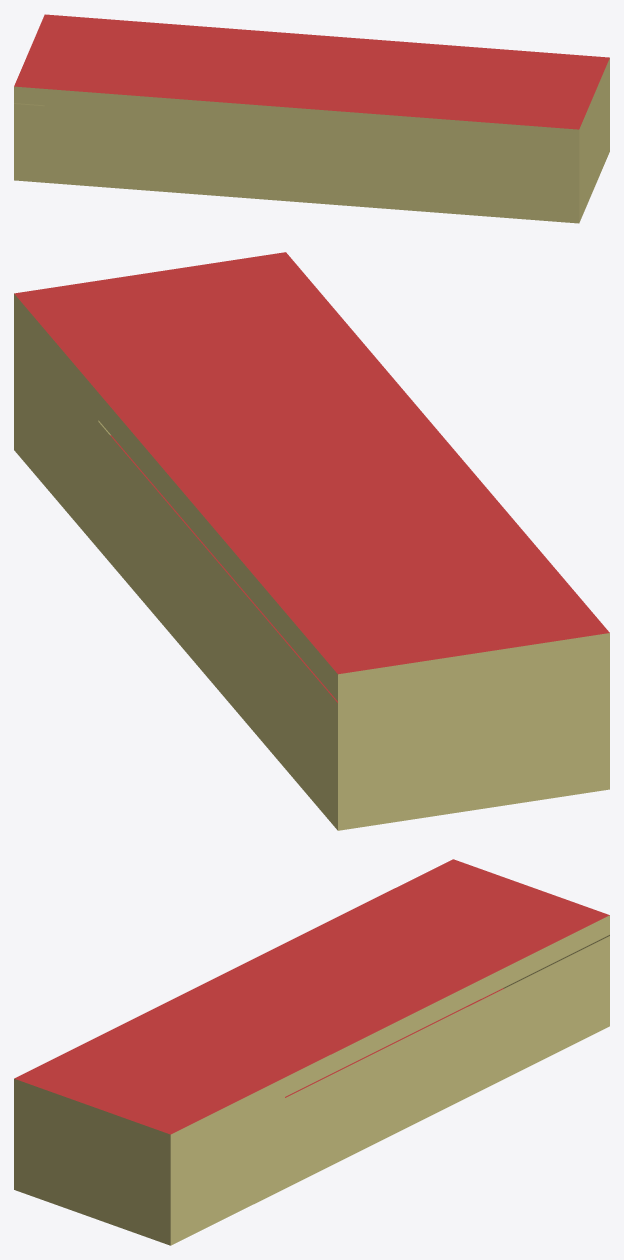
The picture shows the model from 3 angles, top to bottom: view 1: azimuth 30°, elevation 25°; view 2: azimuth 150°, elevation 25°; view 3: azimuth 270°, elevation 25°; orthographic projection. The views are drawn at different scales.
Bounding box in the file's own units: 50.41 × 46.09 × 9.49.
